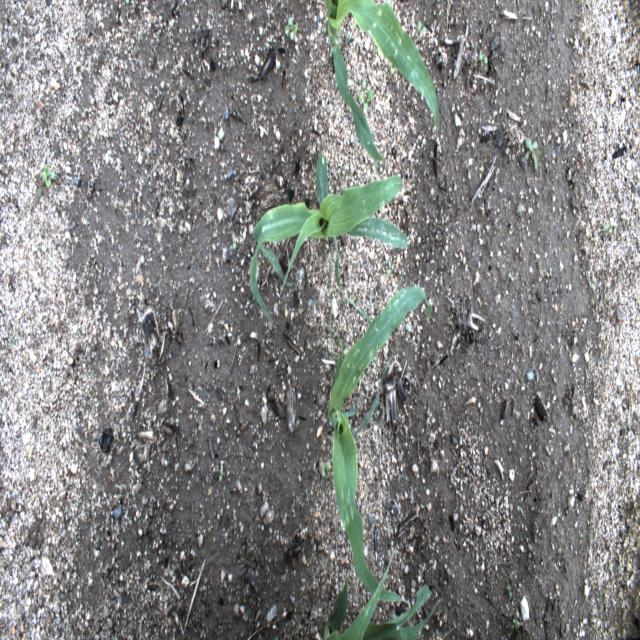crop: (328, 286, 432, 604), (246, 151, 412, 325), (322, 1, 440, 164), (314, 551, 435, 637)
weed: (313, 254, 338, 374), (516, 127, 540, 179), (32, 156, 59, 200), (22, 512, 47, 551), (278, 8, 304, 44), (312, 455, 333, 497), (562, 382, 582, 422), (209, 450, 229, 489), (600, 213, 622, 246), (501, 574, 523, 606), (193, 22, 212, 59), (225, 100, 249, 127), (610, 299, 627, 337), (507, 608, 532, 633), (356, 76, 374, 109), (416, 508, 436, 537), (474, 41, 490, 76), (306, 520, 324, 549), (413, 13, 432, 37), (1, 498, 17, 526), (382, 255, 397, 284), (2, 327, 16, 355), (505, 264, 519, 290), (344, 27, 356, 56), (227, 233, 243, 251), (587, 278, 601, 296)
